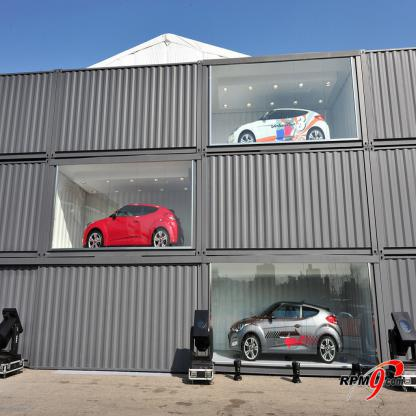car: (231, 300, 346, 364), (81, 198, 185, 254), (226, 104, 333, 141)
